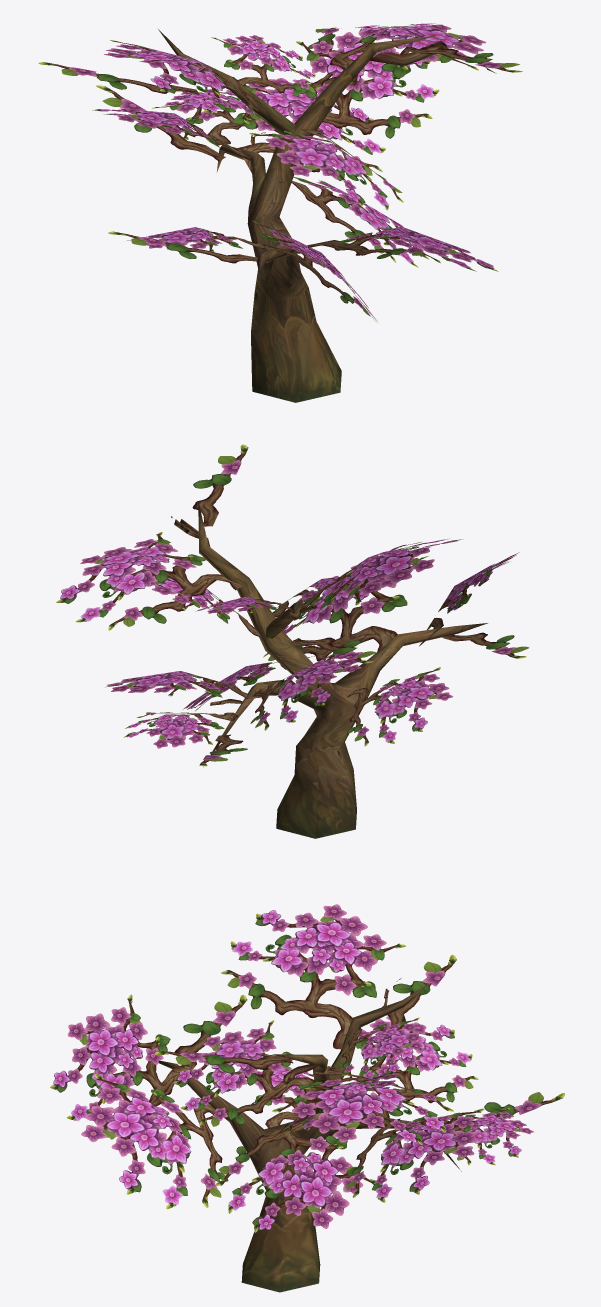
File: szc_tree_taoshu01a.FBX
3 views of the same model, one above another, from view 1: azimuth 30°, elevation 25°; view 2: azimuth 150°, elevation 25°; view 3: azimuth 270°, elevation 25° (orthographic). The views are drawn at different scales.
Parts seen in each view (by area): view 1: szc_tree_taoshu01_ye, szc_tree_taoshu01_gan; view 2: szc_tree_taoshu01_ye, szc_tree_taoshu01_gan; view 3: szc_tree_taoshu01_ye, szc_tree_taoshu01_gan.
Boxes of the visible parts, x1,y1,x2,y2 form: szc_tree_taoshu01_ye: [38, 23, 522, 322]; szc_tree_taoshu01_gan: [158, 29, 437, 402]; szc_tree_taoshu01_ye: [56, 444, 529, 766]; szc_tree_taoshu01_gan: [198, 501, 487, 838]; szc_tree_taoshu01_ye: [50, 904, 565, 1232]; szc_tree_taoshu01_gan: [158, 984, 461, 1292].
Size of the model in its own units: 630 by 420 by 683.
